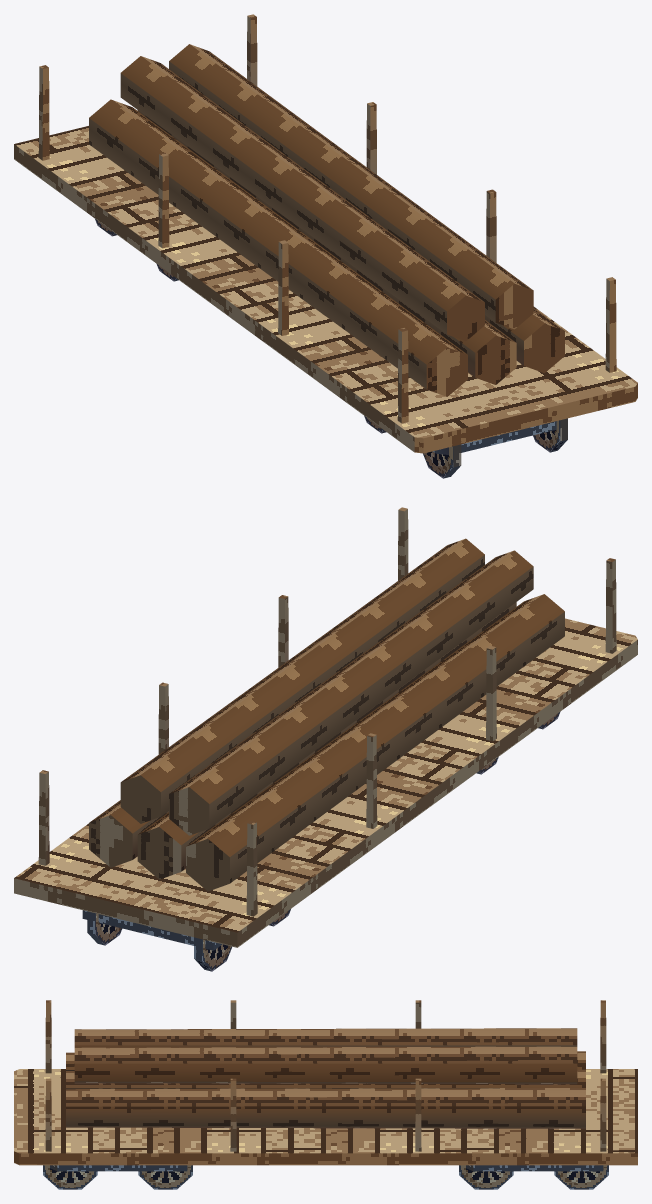
File: wrail.car__flatcar.glb
The picture shows the model from 3 angles, top to bottom: view 1: azimuth 30°, elevation 25°; view 2: azimuth 150°, elevation 25°; view 3: azimuth 270°, elevation 25°; orthographic projection. The views are drawn at different scales.
Parts seen in each view (by area): view 1: kit_load, kit_frame, kit_stakes, kit_wheels, kit_trucks; view 2: kit_load, kit_frame, kit_stakes, kit_wheels, kit_trucks; view 3: kit_load, kit_frame, kit_stakes, kit_wheels, kit_trucks.
Boxes of the visible parts, x1=… form: kit_load: x1=89, y1=44, x2=564, y2=396; kit_frame: x1=14, y1=126, x2=637, y2=453; kit_stakes: x1=38, y1=14, x2=616, y2=423; kit_wheels: x1=95, y1=219, x2=567, y2=478; kit_trucks: x1=433, y1=421, x2=556, y2=454; kit_load: x1=89, y1=538, x2=564, y2=891; kit_frame: x1=14, y1=618, x2=637, y2=947; kit_stakes: x1=38, y1=507, x2=616, y2=916; kit_wheels: x1=87, y1=711, x2=560, y2=971; kit_trucks: x1=82, y1=910, x2=221, y2=950; kit_load: x1=66, y1=1028, x2=585, y2=1128; kit_frame: x1=14, y1=1069, x2=637, y2=1165; kit_stakes: x1=45, y1=1000, x2=606, y2=1151; kit_wheels: x1=43, y1=1165, x2=608, y2=1189; kit_trucks: x1=50, y1=1165, x2=603, y2=1171.
Bounding box in the file's own units: 2.3 × 1.66 × 7.2.
5 materials, 5 textured.
